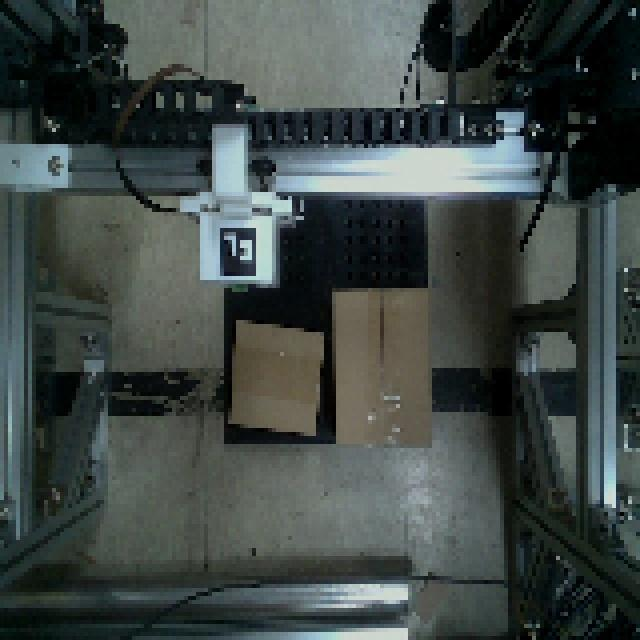box: (327, 284, 433, 451), (223, 314, 327, 442)
